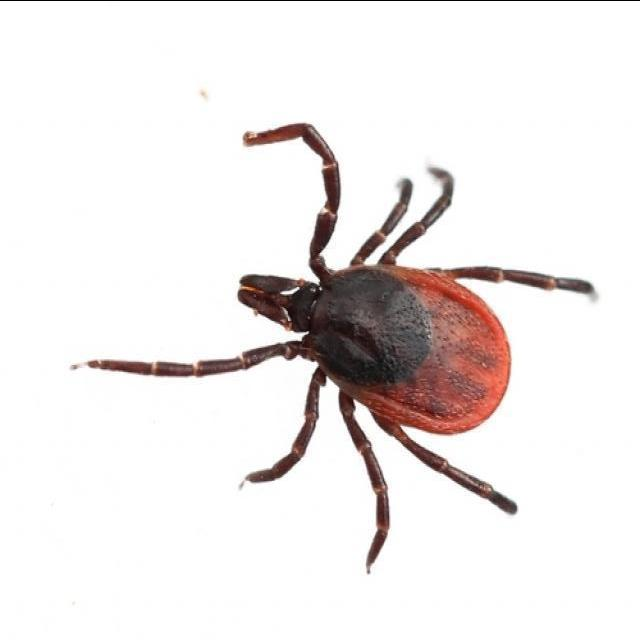Ixodes Ricinus-F: (70, 120, 595, 573)
